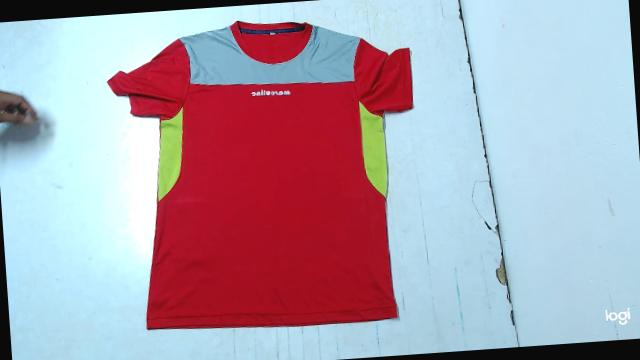new-garment: (108, 21, 412, 328)
